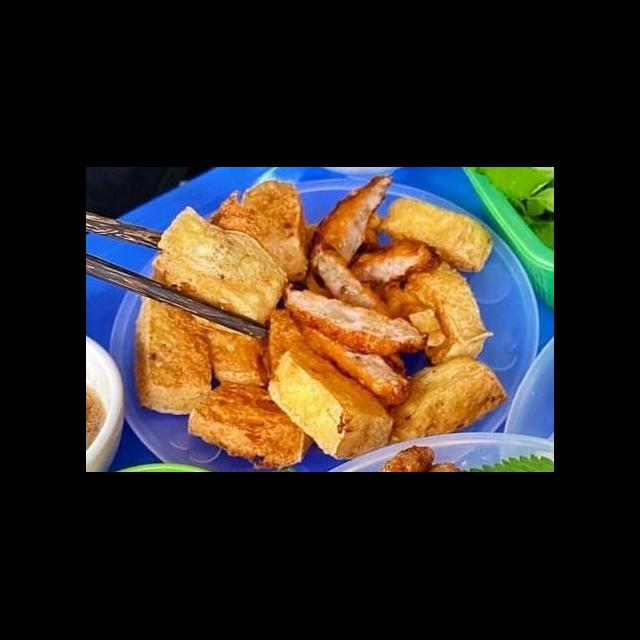cha com: (275, 238, 444, 362), (301, 168, 405, 296)
dau hu: (146, 202, 290, 334), (262, 344, 400, 464), (126, 278, 225, 419), (381, 255, 500, 372), (178, 376, 318, 469), (206, 178, 313, 290), (382, 354, 512, 446), (378, 194, 500, 276)
